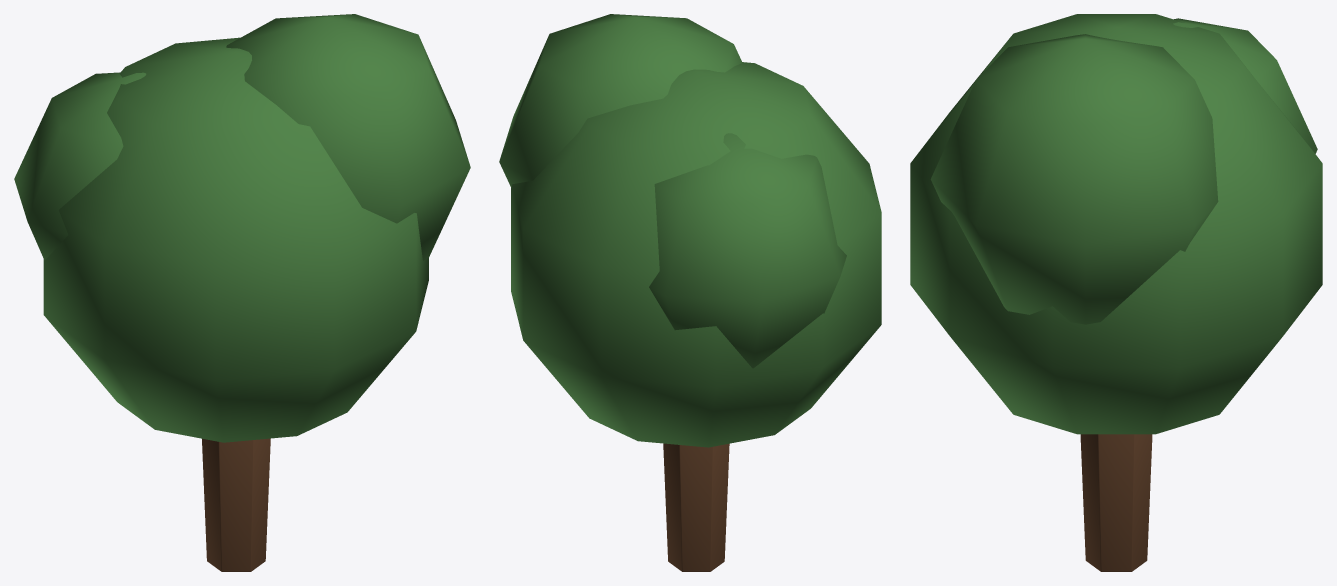
Rendered from tree_small.glb.
3 views of the same model, side by side, from view 1: azimuth 30°, elevation 25°; view 2: azimuth 150°, elevation 25°; view 3: azimuth 270°, elevation 25° (orthographic). The views are drawn at different scales.
Visible parts, largest first — view 1: Sphere, Sphere.001, Sphere.002, Cone; view 2: Sphere, Sphere.002, Sphere.001, Cone; view 3: Sphere, Sphere.001, Cone, Sphere.002.
Boxes of the visible parts, box(x1,y1,x2,y2) form: Sphere: box(43, 37, 428, 442); Sphere.001: box(226, 14, 470, 260); Sphere.002: box(14, 72, 146, 260); Cone: box(202, 438, 270, 571); Sphere: box(511, 62, 881, 447); Sphere.002: box(649, 133, 846, 368); Sphere.001: box(499, 14, 742, 187); Cone: box(663, 443, 729, 571); Sphere: box(910, 14, 1322, 434); Sphere.001: box(930, 34, 1218, 324); Cone: box(1080, 434, 1152, 571); Sphere.002: box(1173, 18, 1317, 153).
Bounding box in the file's own units: 1.5 × 2 × 1.33.
